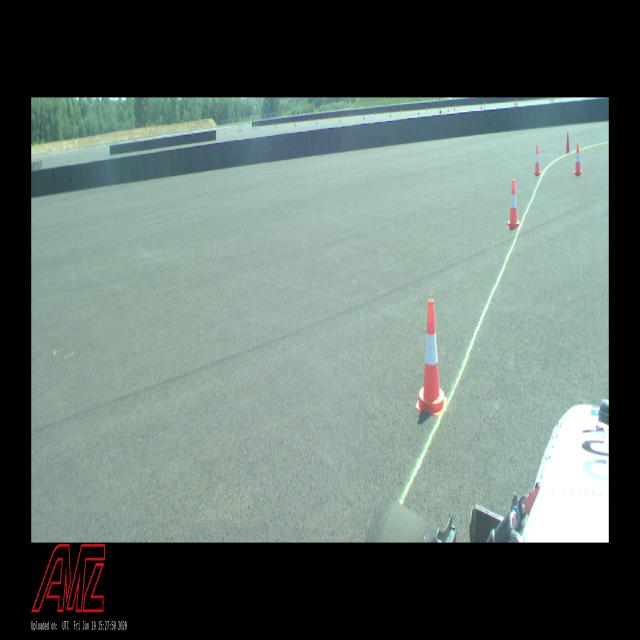orange_cone: (416, 299, 447, 416), (507, 181, 519, 228), (572, 140, 582, 176), (533, 145, 541, 175)
